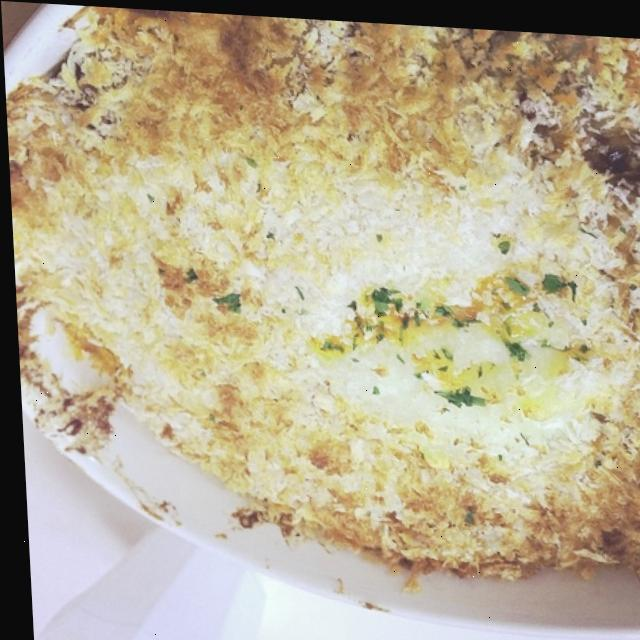米饭主食: (44, 13, 640, 592)
